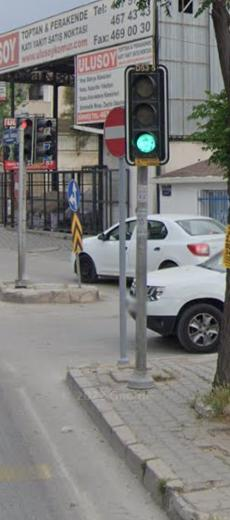greenlight: (127, 64, 165, 164)
